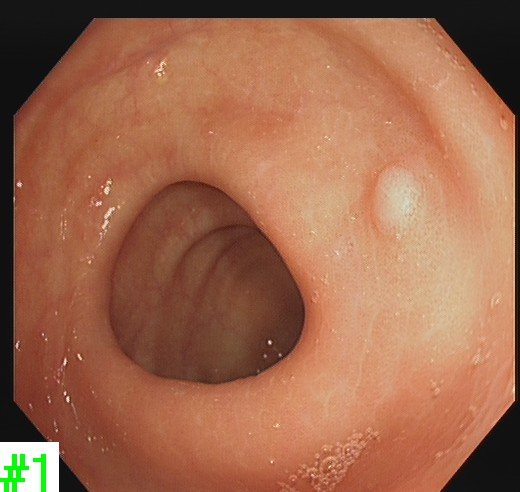adenoma: (367, 160, 424, 244)
